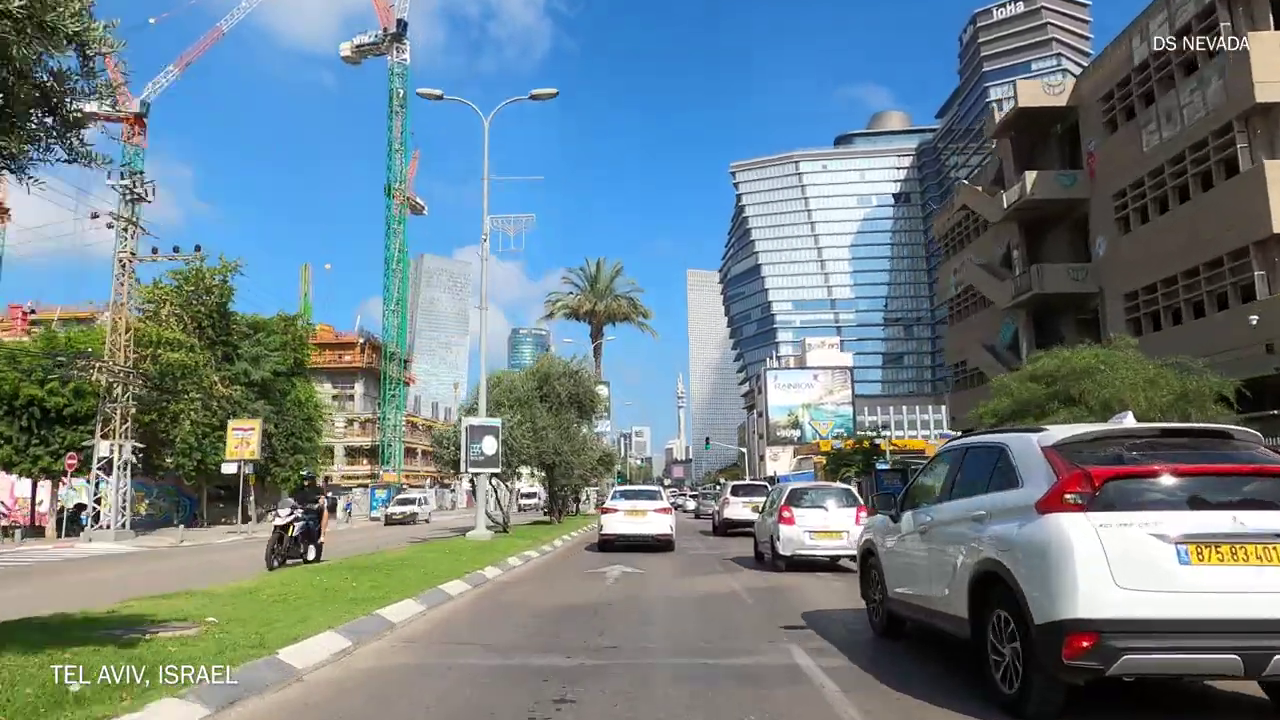licence: (810, 530, 836, 539), (808, 532, 834, 540), (621, 509, 644, 517)
